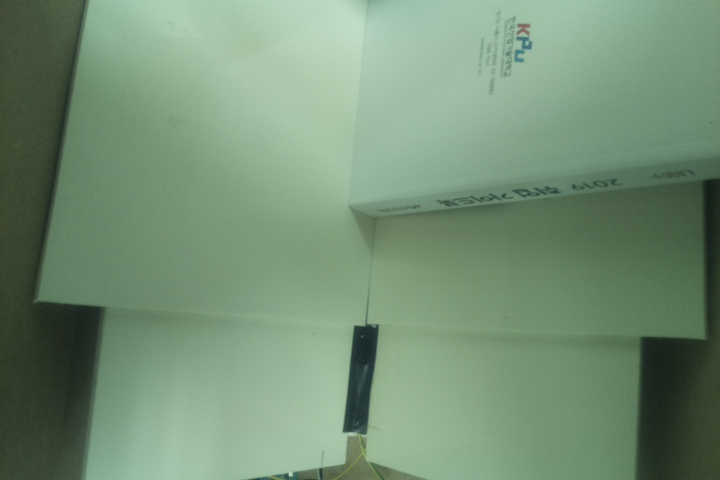book: (347, 1, 720, 224)
